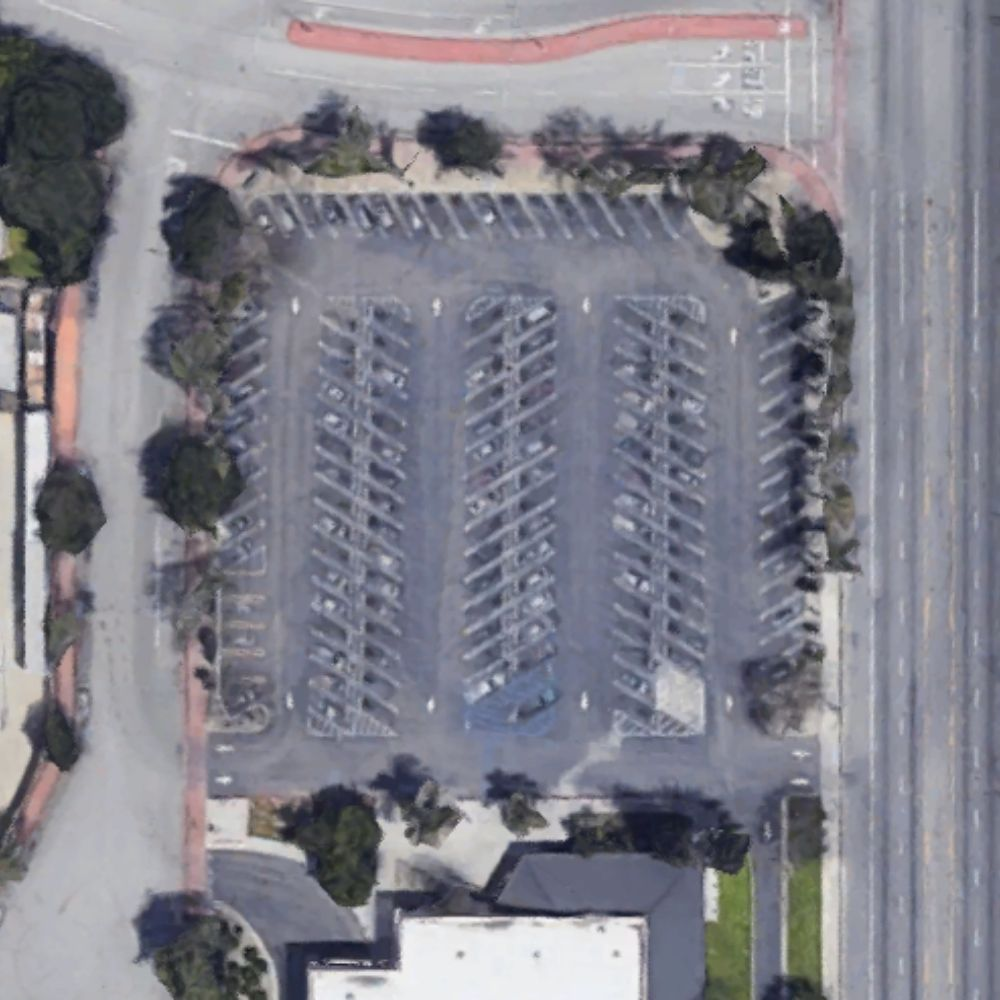parking: (225, 220, 820, 795)
